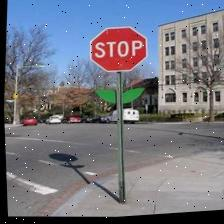Stop: (86, 26, 150, 76)
